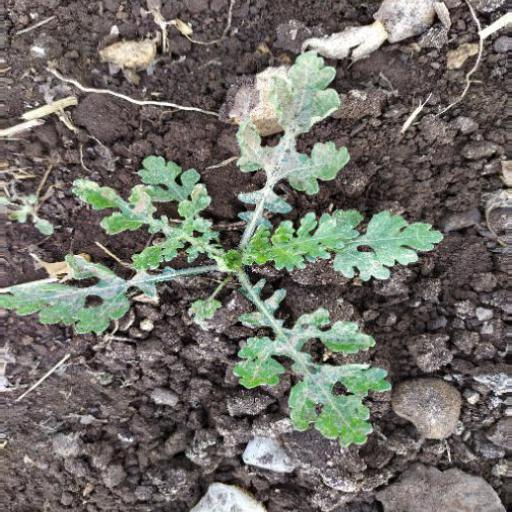weed: (12, 61, 442, 449)
